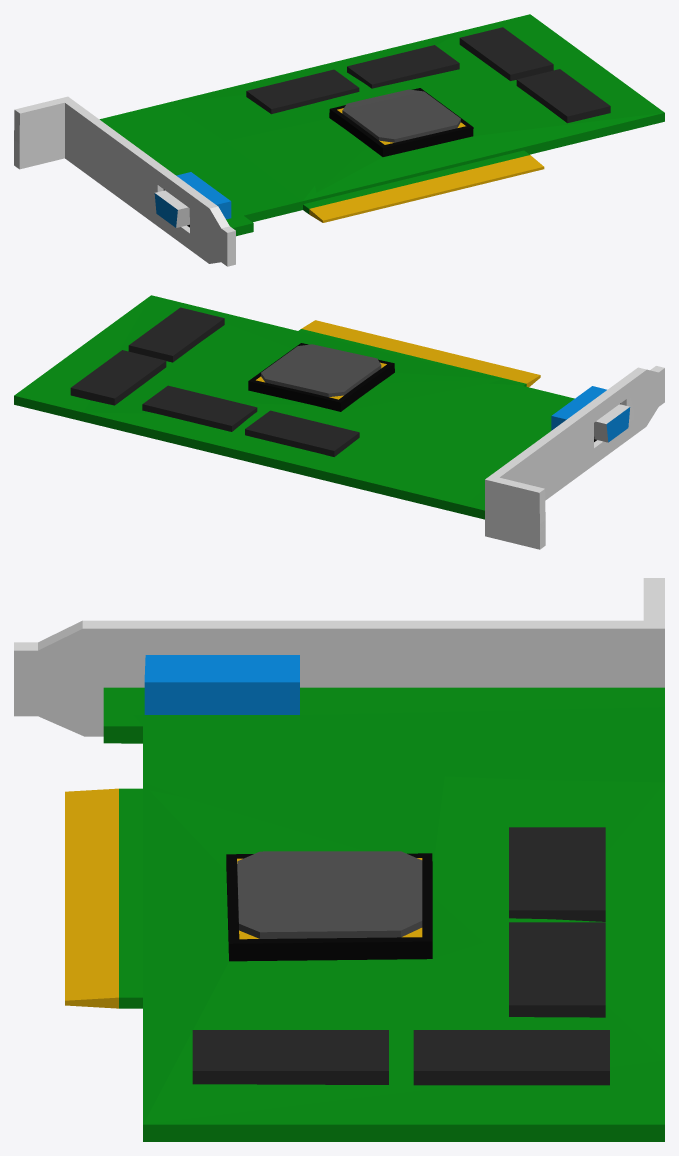
File: deforce4_mx_420.fbx
The picture shows the model from 3 angles, top to bottom: view 1: azimuth 30°, elevation 25°; view 2: azimuth 150°, elevation 25°; view 3: azimuth 270°, elevation 25°; orthographic projection. The views are drawn at different scales.
Visible parts, largest first — view 1: Plane.001, Cube.004, Cube.003, Cube.001, Cube.002; view 2: Plane.001, Cube.002, Cube.001, Cube.003, Cube.004; view 3: Plane.001, Cube.003, Cube.004, Cube.001, Cube.002.
Boxes of the visible parts, left/top/right/bottom form: Plane.001: left=14, top=14, right=664, bottom=266; Cube.004: left=516, top=69, right=610, bottom=123; Cube.003: left=459, top=27, right=553, bottom=80; Cube.001: left=347, top=45, right=459, bottom=88; Cube.002: left=246, top=69, right=359, bottom=114; Plane.001: left=14, top=295, right=664, bottom=549; Cube.002: left=245, top=410, right=359, bottom=456; Cube.001: left=142, top=385, right=257, bottom=431; Cube.003: left=70, top=350, right=166, bottom=405; Cube.004: left=128, top=307, right=224, bottom=362; Plane.001: left=14, top=578, right=664, bottom=1141; Cube.003: left=413, top=1030, right=609, bottom=1085; Cube.004: left=192, top=1030, right=388, bottom=1084; Cube.001: left=509, top=922, right=605, bottom=1017; Cube.002: left=509, top=827, right=605, bottom=921.
Bounding box in the file's own units: 136 × 14.02 × 76.61.
